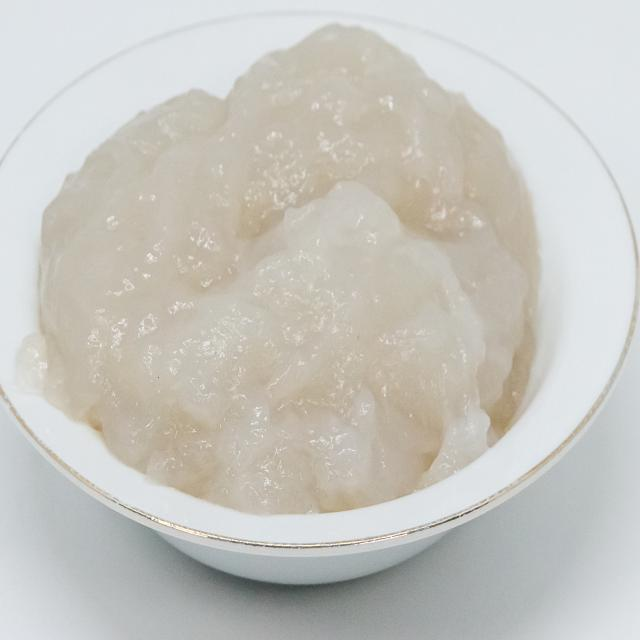Papeda: (23, 5, 557, 551)
